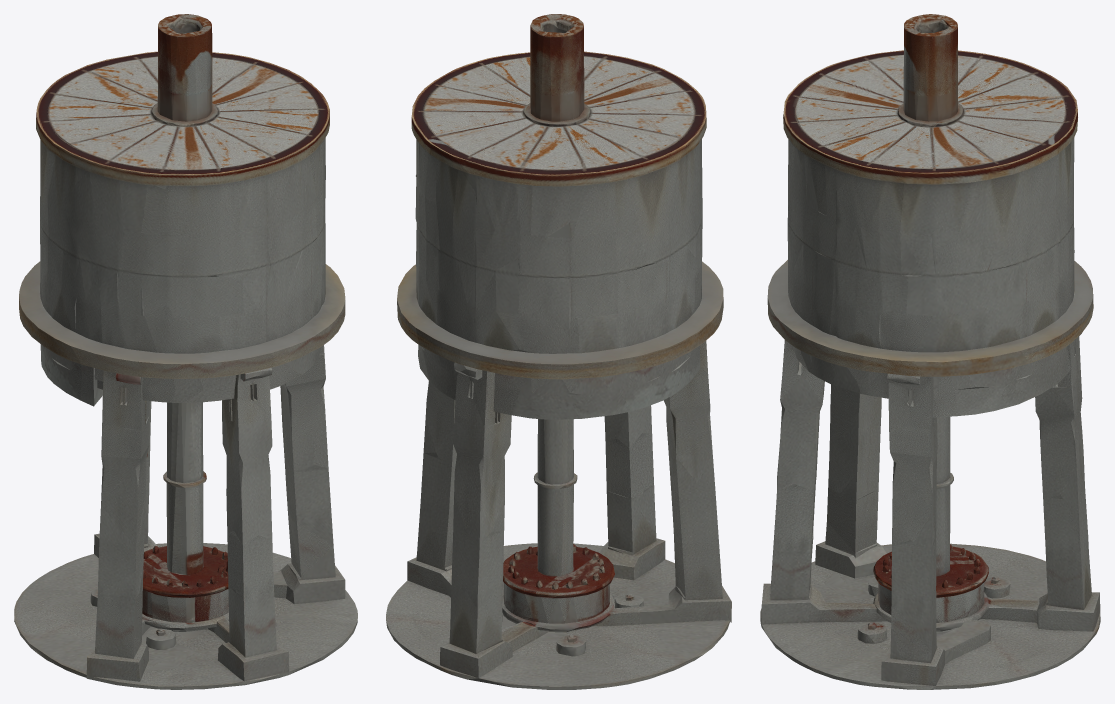
File: watertower.glb
3 renders of one model, left to right at view 1: azimuth 30°, elevation 25°; view 2: azimuth 150°, elevation 25°; view 3: azimuth 270°, elevation 25°, orthographic.
Size of the model in its own units: 0.9904 by 1.9 by 0.9893.
1 material, 1 textured.
